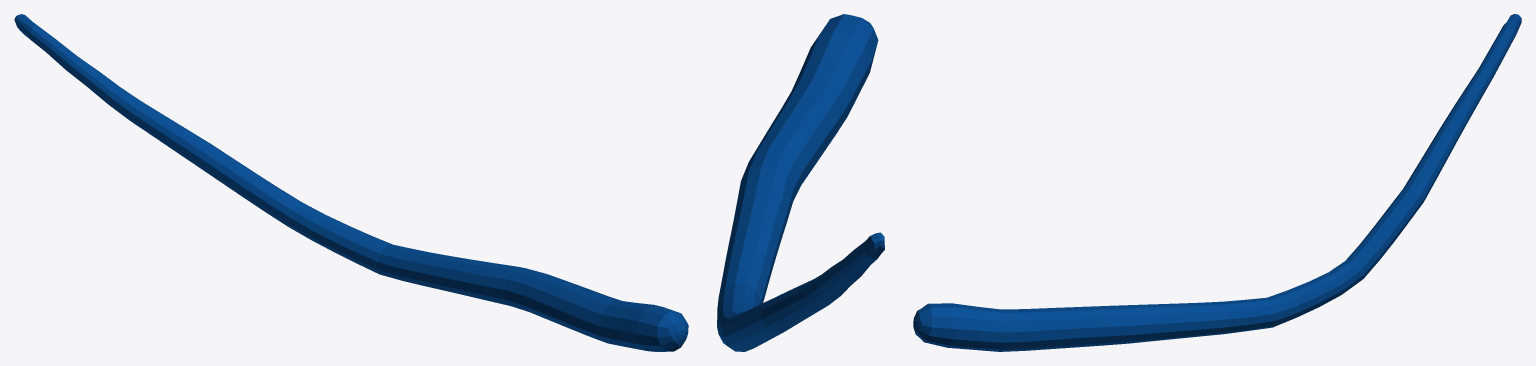
File: Optic_nerve_L.glb
The picture shows the model from 3 angles, left to right: view 1: azimuth 30°, elevation 25°; view 2: azimuth 150°, elevation 25°; view 3: azimuth 270°, elevation 25°; orthographic projection. The views are drawn at different scales.
Parts seen in each view (by area): view 1: Optic_nerve_L.001; view 2: Optic_nerve_L.001; view 3: Optic_nerve_L.001.
Boxes of the visible parts, left/top/right/bottom form: Optic_nerve_L.001: left=14, top=14, right=688, bottom=351; Optic_nerve_L.001: left=717, top=14, right=884, bottom=351; Optic_nerve_L.001: left=913, top=14, right=1521, bottom=351.
Bounding box in the file's own units: 0.0416 × 0.0245 × 0.0657.
Materials: 1 (1 with a texture image).
